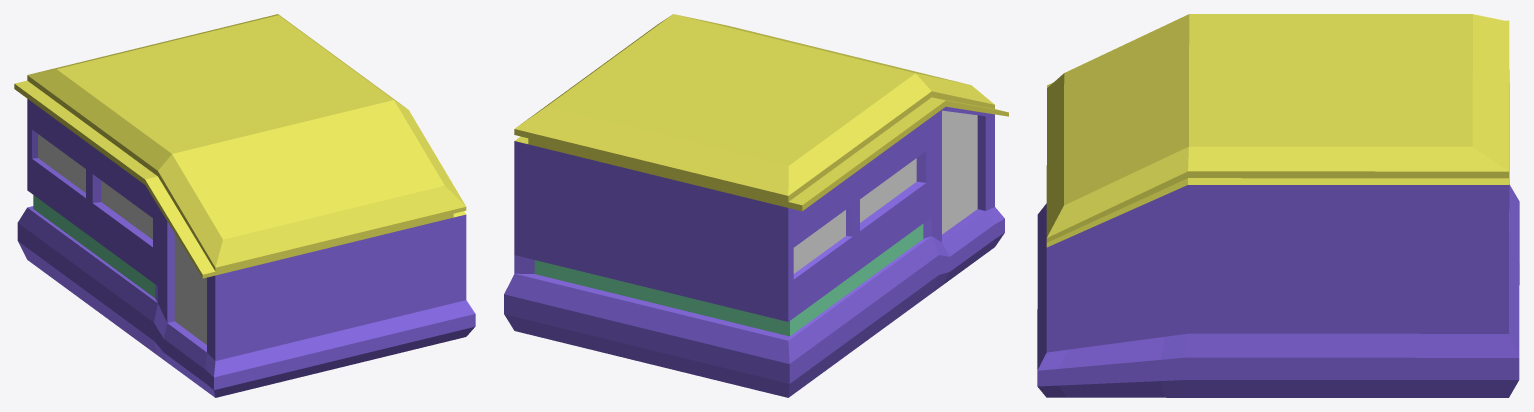
File: FBX_LC_mHouseTop_1.fbx
3 renders of one model, left to right at view 1: azimuth 30°, elevation 25°; view 2: azimuth 150°, elevation 25°; view 3: azimuth 270°, elevation 25°, orthographic. The views are drawn at different scales.
Visible parts, largest first — view 1: FBX_LC_mHouseTop_1; view 2: FBX_LC_mHouseTop_1; view 3: FBX_LC_mHouseTop_1.
Part boxes in pixels (box(x1,y1,x2,y2)): FBX_LC_mHouseTop_1: box(14, 14, 475, 397); FBX_LC_mHouseTop_1: box(504, 14, 1008, 397); FBX_LC_mHouseTop_1: box(1037, 14, 1519, 397).
Bounding box in the file's own units: 933 × 656 × 1182.
